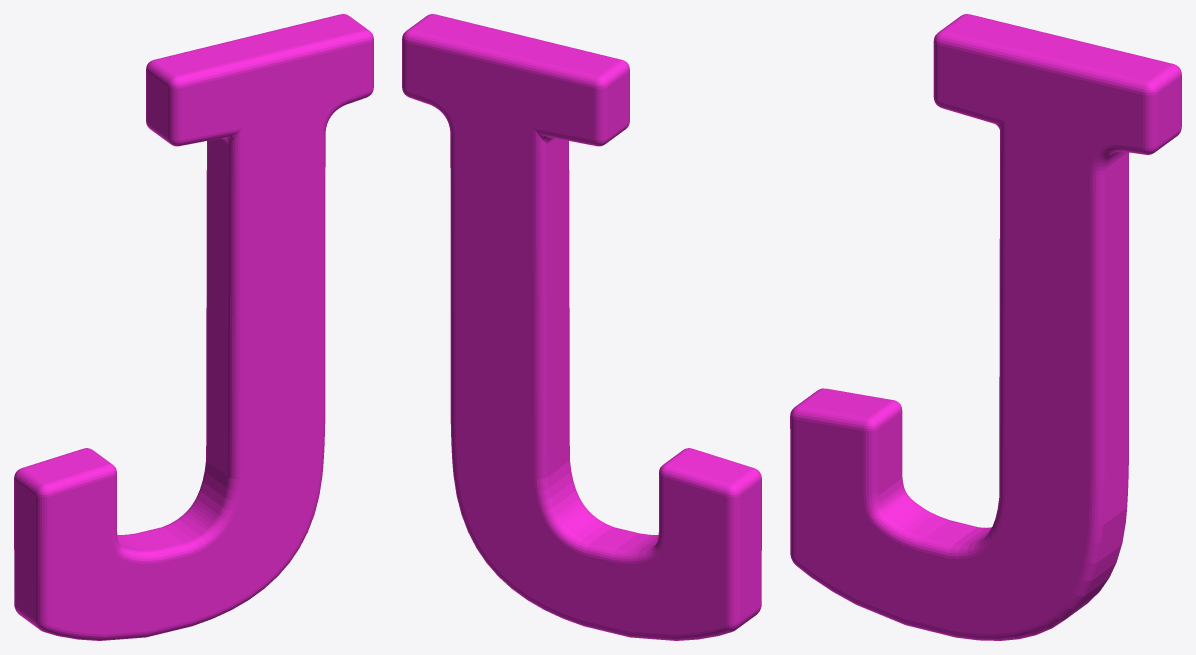
3 views of the same model, side by side, from view 1: azimuth 30°, elevation 25°; view 2: azimuth 150°, elevation 25°; view 3: azimuth 330°, elevation 25° (orthographic). The views are drawn at different scales.
Parts seen in each view (by area): view 1: 텍스트; view 2: 텍스트; view 3: 텍스트.
Boxes of the visible parts, x1,y1,x2,y2 form: 텍스트: (14,14,373,640); 텍스트: (402,14,761,640); 텍스트: (790,14,1181,640).
Bounding box in the file's own units: 0.3174 × 0.4985 × 0.05.
